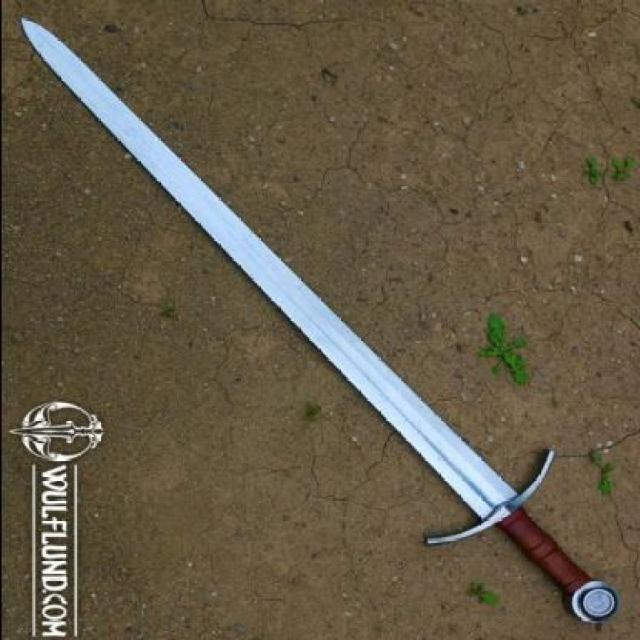weapon: (14, 20, 620, 626)
